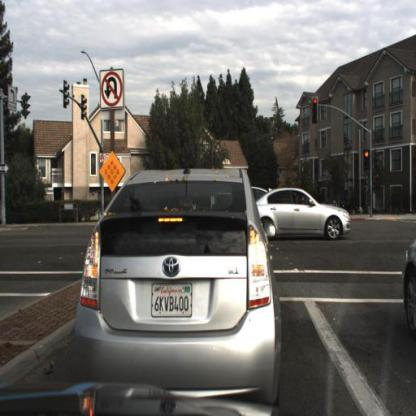car: (56, 155, 282, 409), (253, 187, 353, 244), (400, 225, 416, 343), (317, 196, 352, 221), (247, 180, 269, 206)
trafficLight-Red: (361, 145, 373, 176), (311, 93, 321, 126)
